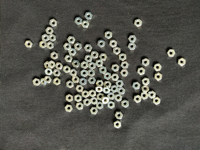nut: (178, 58, 187, 67), (134, 95, 142, 104), (128, 43, 137, 51), (115, 112, 124, 120), (76, 102, 84, 111), (168, 49, 176, 57), (154, 64, 162, 72), (149, 91, 157, 99), (142, 85, 150, 93), (133, 82, 141, 90), (138, 68, 146, 76), (129, 35, 137, 43), (135, 19, 143, 27), (114, 121, 122, 129), (105, 31, 113, 39), (119, 53, 127, 61), (121, 61, 129, 69), (116, 80, 124, 88), (118, 87, 126, 95), (115, 94, 123, 102), (112, 64, 120, 72), (111, 85, 119, 93), (104, 72, 112, 80), (91, 51, 99, 59), (88, 69, 96, 77), (85, 55, 93, 63), (85, 44, 93, 52), (81, 61, 89, 69), (76, 85, 84, 93), (65, 105, 73, 113), (72, 60, 80, 68), (69, 48, 77, 56), (85, 12, 93, 20), (75, 17, 83, 25), (64, 43, 72, 51), (65, 55, 73, 63), (33, 78, 41, 86), (45, 68, 53, 76), (50, 19, 58, 27), (46, 27, 54, 35), (156, 73, 163, 82), (143, 58, 150, 67), (66, 94, 73, 103), (75, 42, 82, 51), (154, 97, 161, 105), (141, 93, 149, 100), (143, 78, 150, 86), (122, 100, 129, 108), (110, 40, 117, 48), (114, 47, 121, 55), (121, 70, 129, 77), (98, 40, 105, 48), (108, 101, 115, 109), (100, 54, 108, 61), (96, 60, 104, 67), (102, 97, 110, 104), (103, 87, 111, 94), (104, 81, 112, 88), (100, 66, 107, 74), (96, 80, 104, 87), (97, 93, 104, 101), (97, 102, 104, 110), (91, 107, 98, 115), (91, 97, 98, 105), (89, 90, 96, 98), (88, 77, 96, 84), (89, 62, 96, 70), (84, 99, 91, 107), (81, 69, 88, 77), (80, 78, 87, 86), (75, 95, 82, 103), (67, 81, 74, 89), (72, 76, 80, 83), (70, 69, 77, 77), (82, 21, 90, 28), (68, 37, 76, 44), (64, 66, 71, 74), (56, 62, 63, 70), (53, 70, 61, 77), (54, 78, 61, 86), (44, 62, 52, 69), (51, 52, 58, 60), (47, 42, 54, 50), (49, 34, 56, 42), (25, 41, 33, 48), (42, 34, 49, 42), (40, 41, 47, 49), (112, 74, 119, 81), (108, 93, 115, 100), (96, 86, 103, 93), (82, 91, 89, 98), (45, 77, 52, 84), (49, 61, 55, 69), (41, 79, 47, 86)
